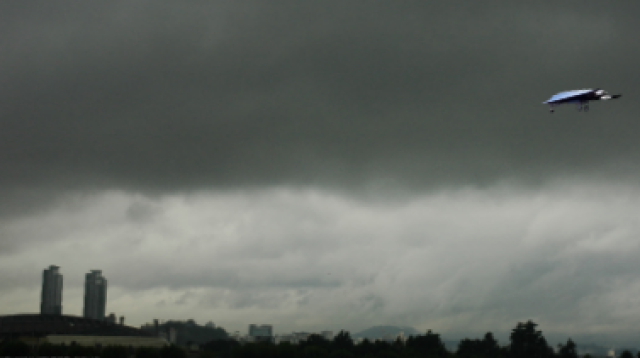military drone: (540, 86, 622, 112)
